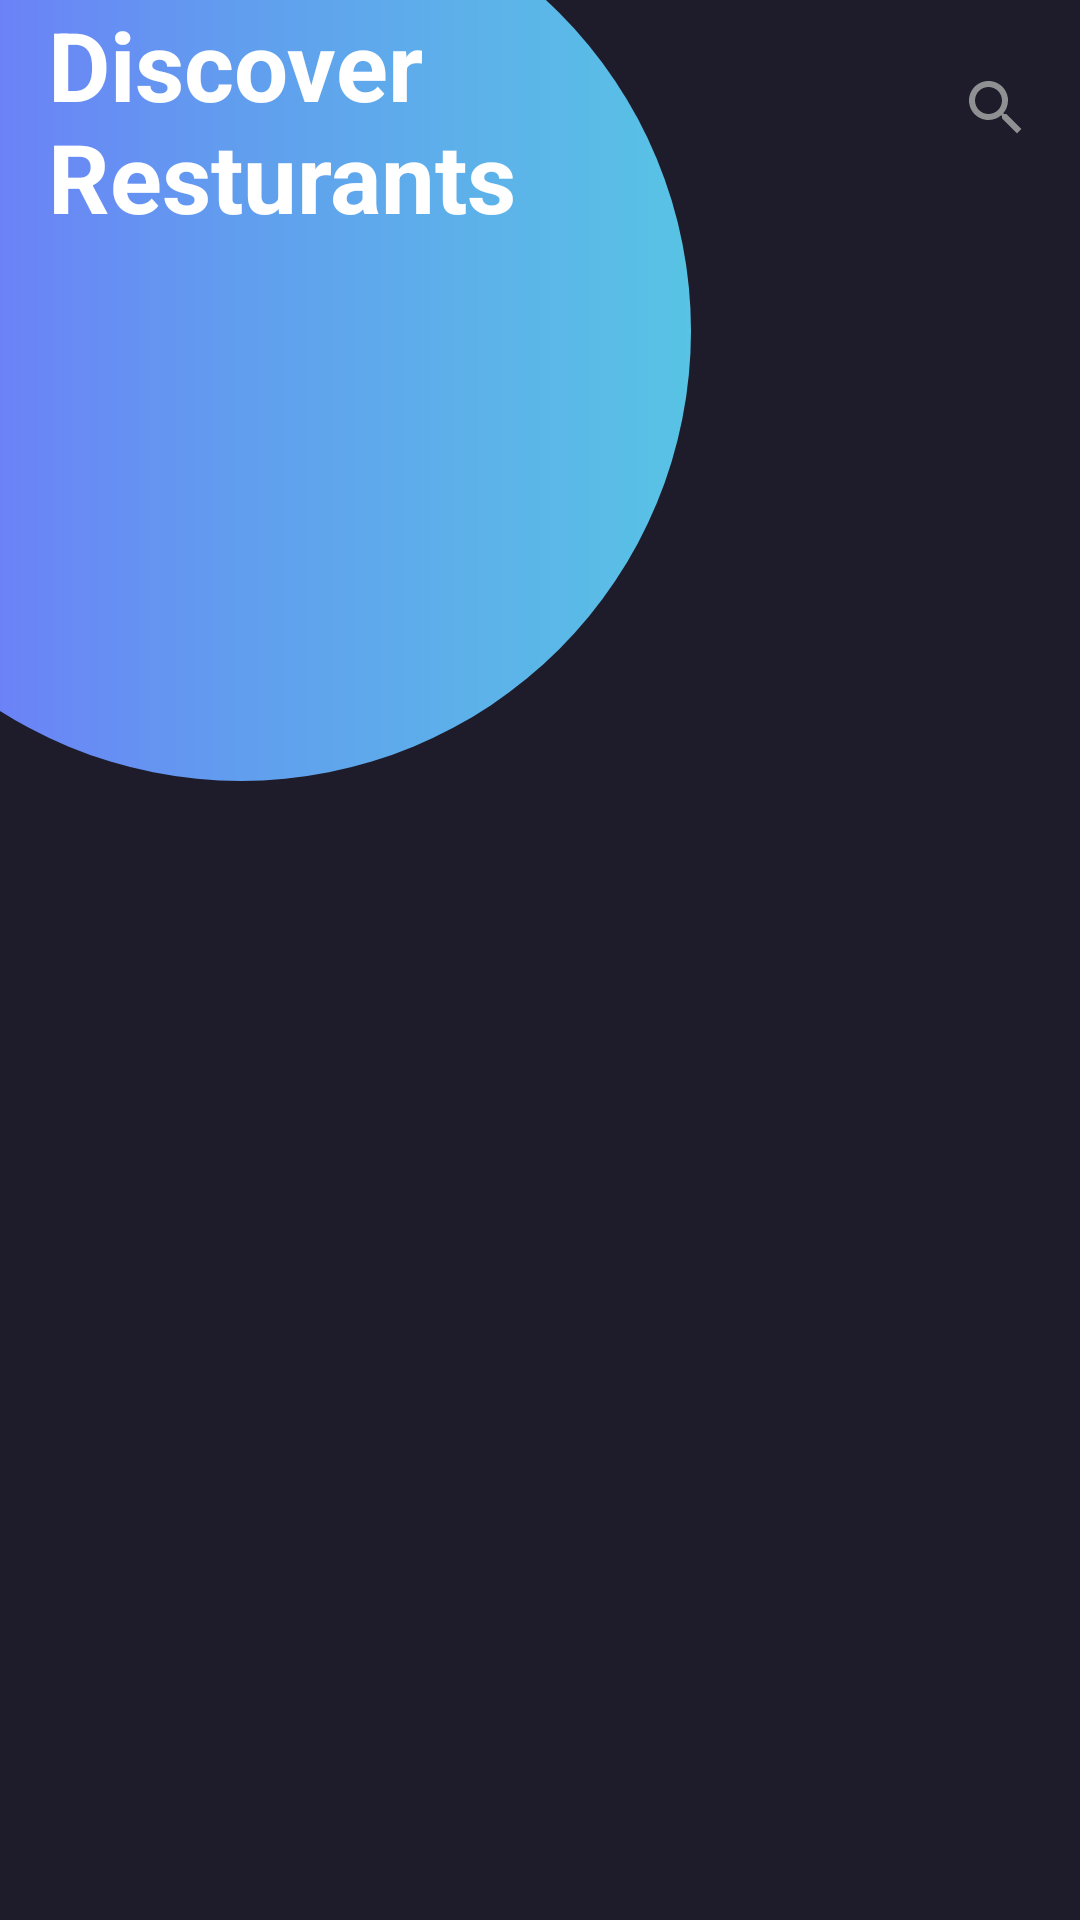

Named icons in this screenshot (1080px x 1920px) and their bounding boxes, (x1, y1, x2, y2):
search: (969, 81, 1021, 133)
